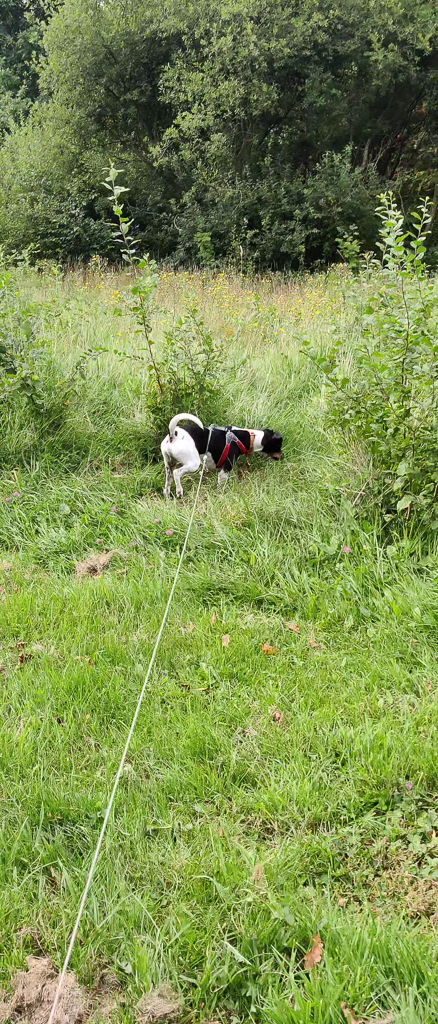Dog: (149, 405, 299, 511)
